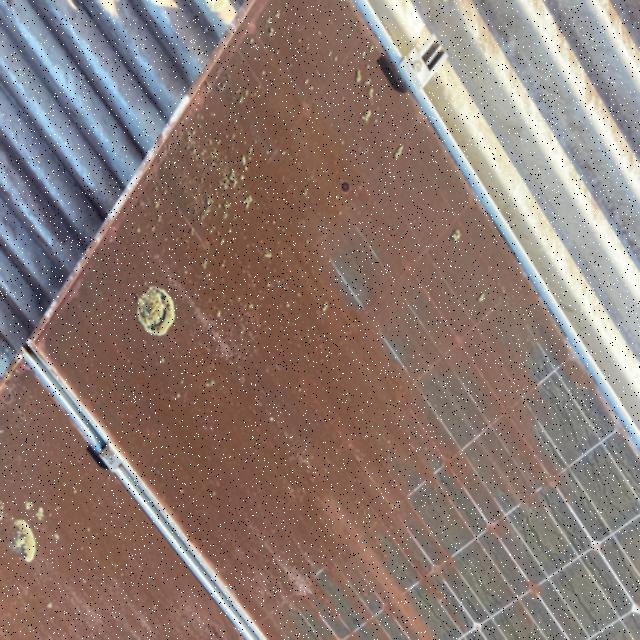dusty: (44, 89, 437, 611)
